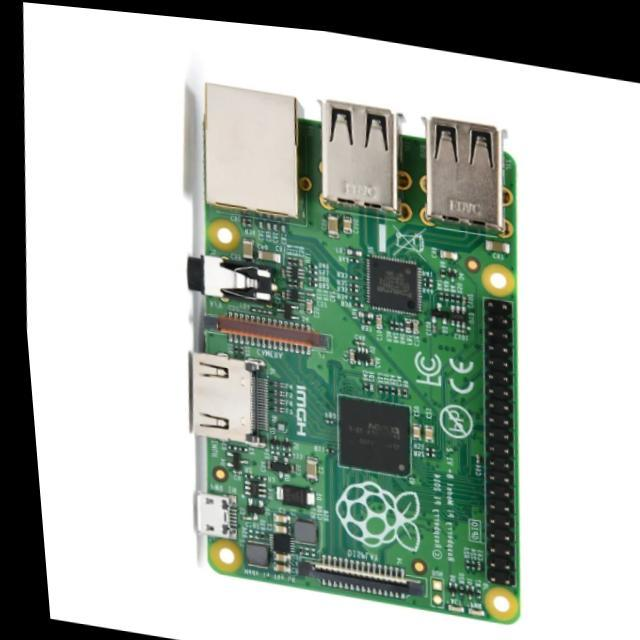Raspberry Pi 1 B-: (188, 85, 520, 623)
